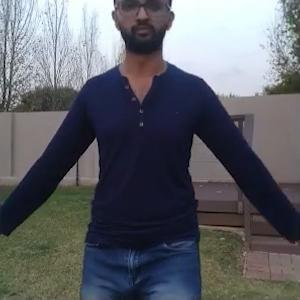land: (9, 5, 288, 299)
